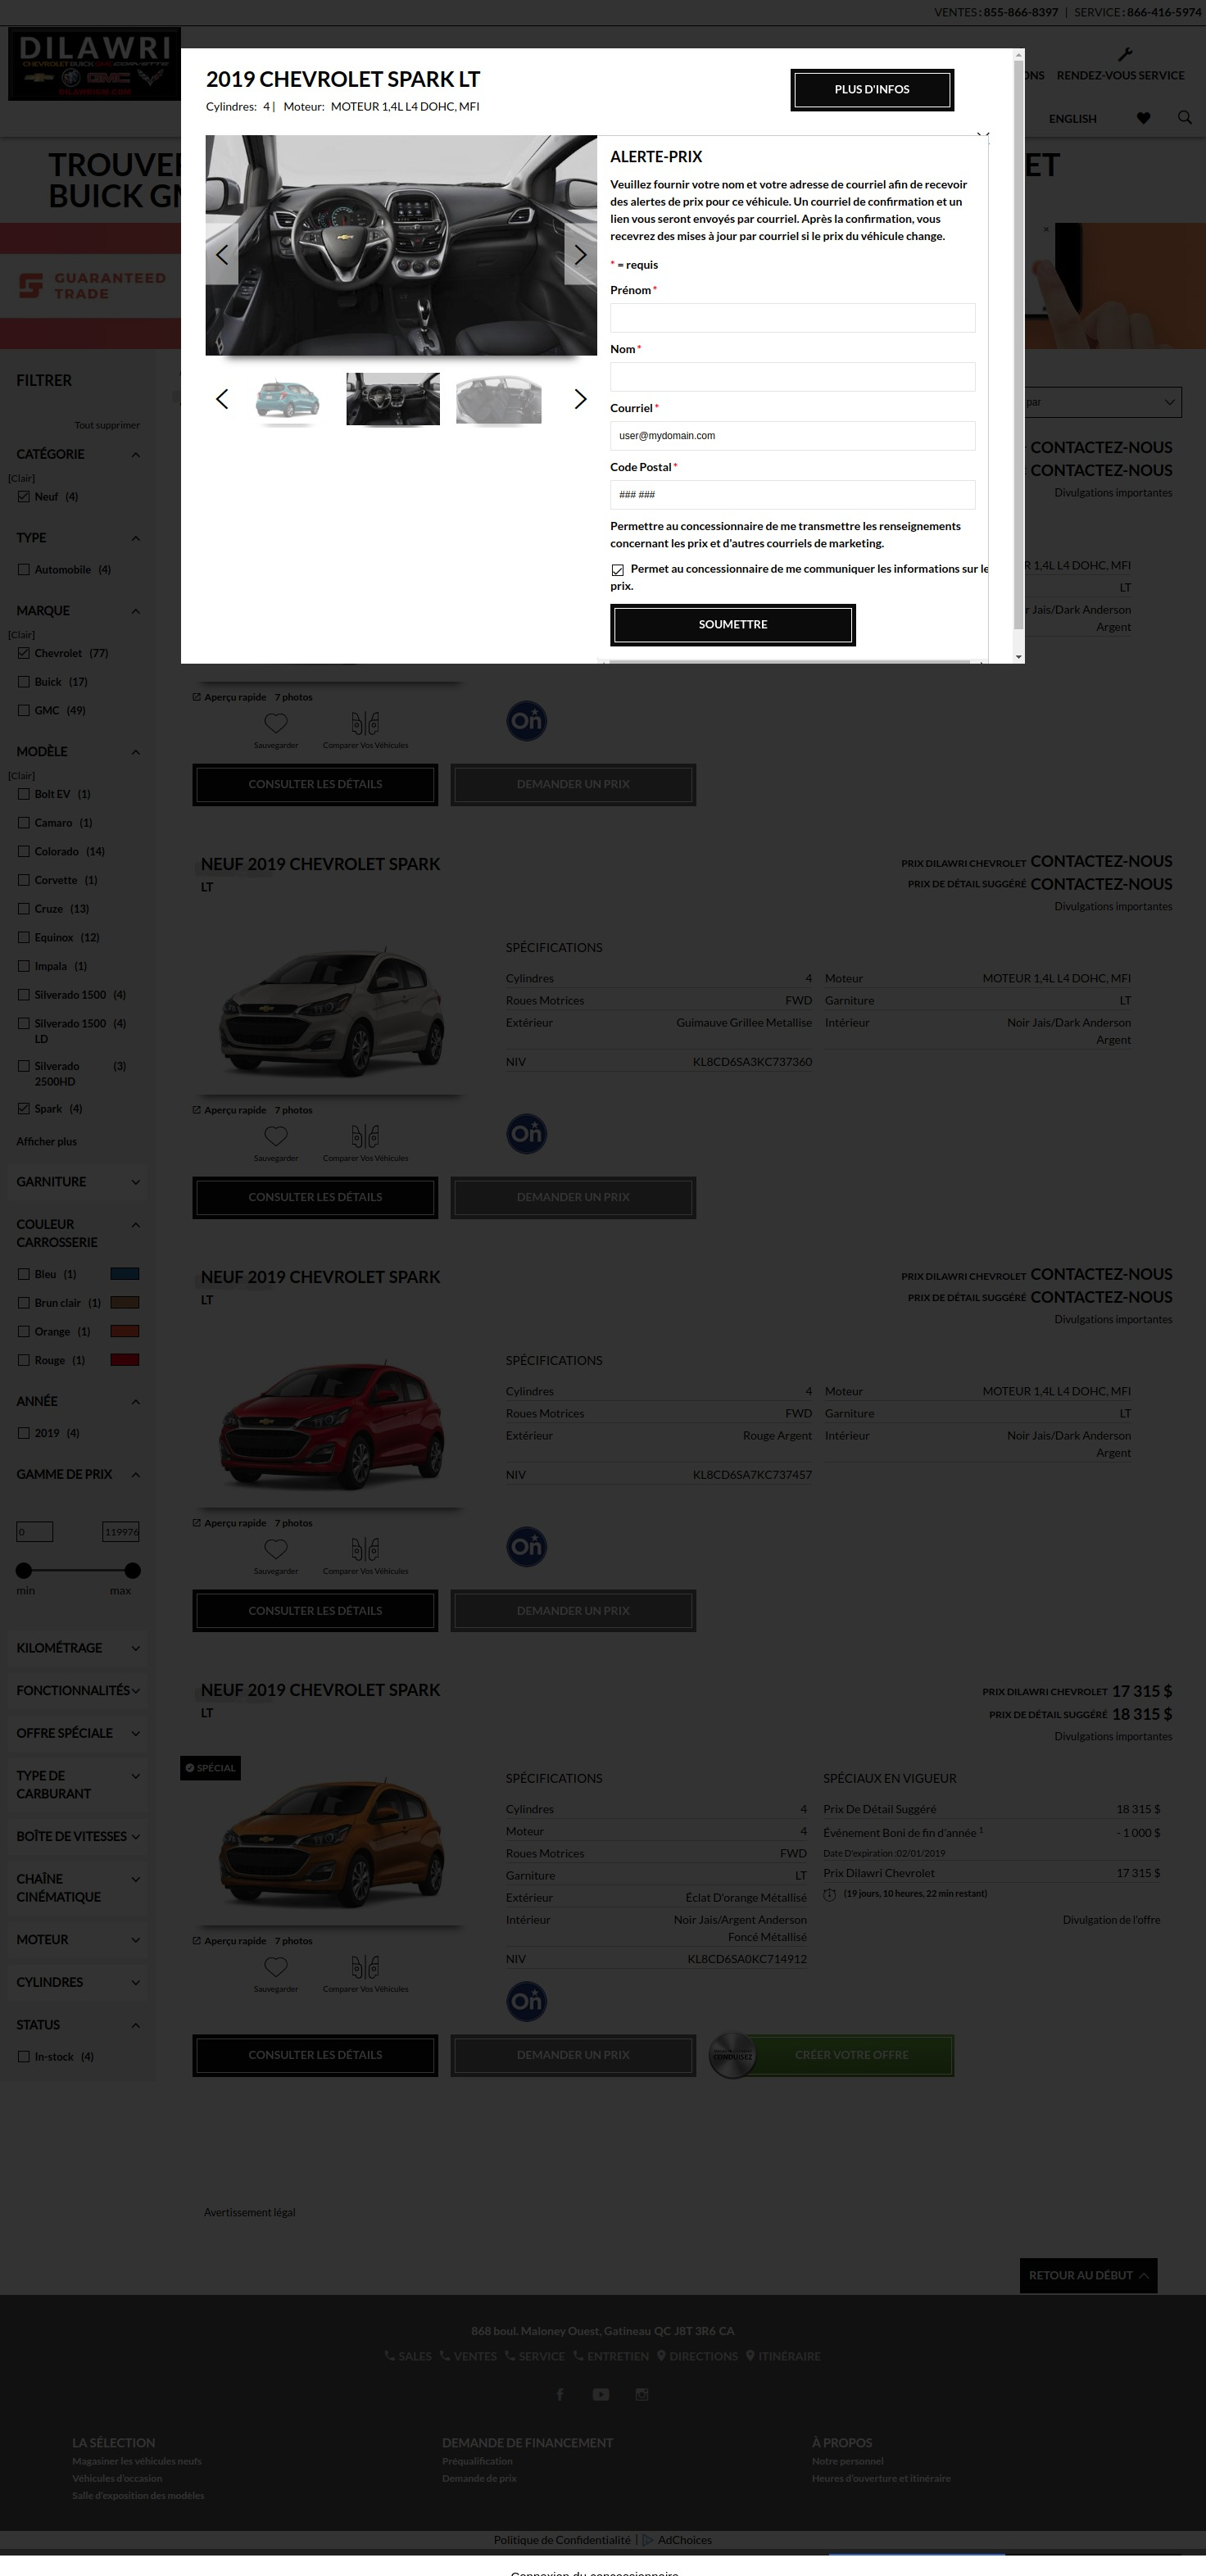car: (575, 389, 588, 411)
